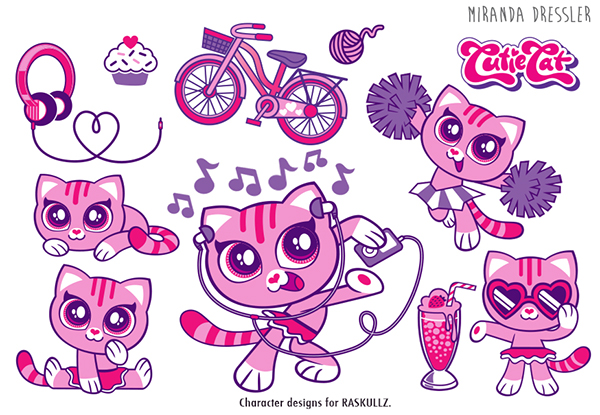bicycle: (166, 19, 355, 149)
cat: (180, 192, 409, 392), (363, 54, 565, 241), (1, 147, 185, 265), (12, 273, 176, 403), (473, 250, 598, 406)
